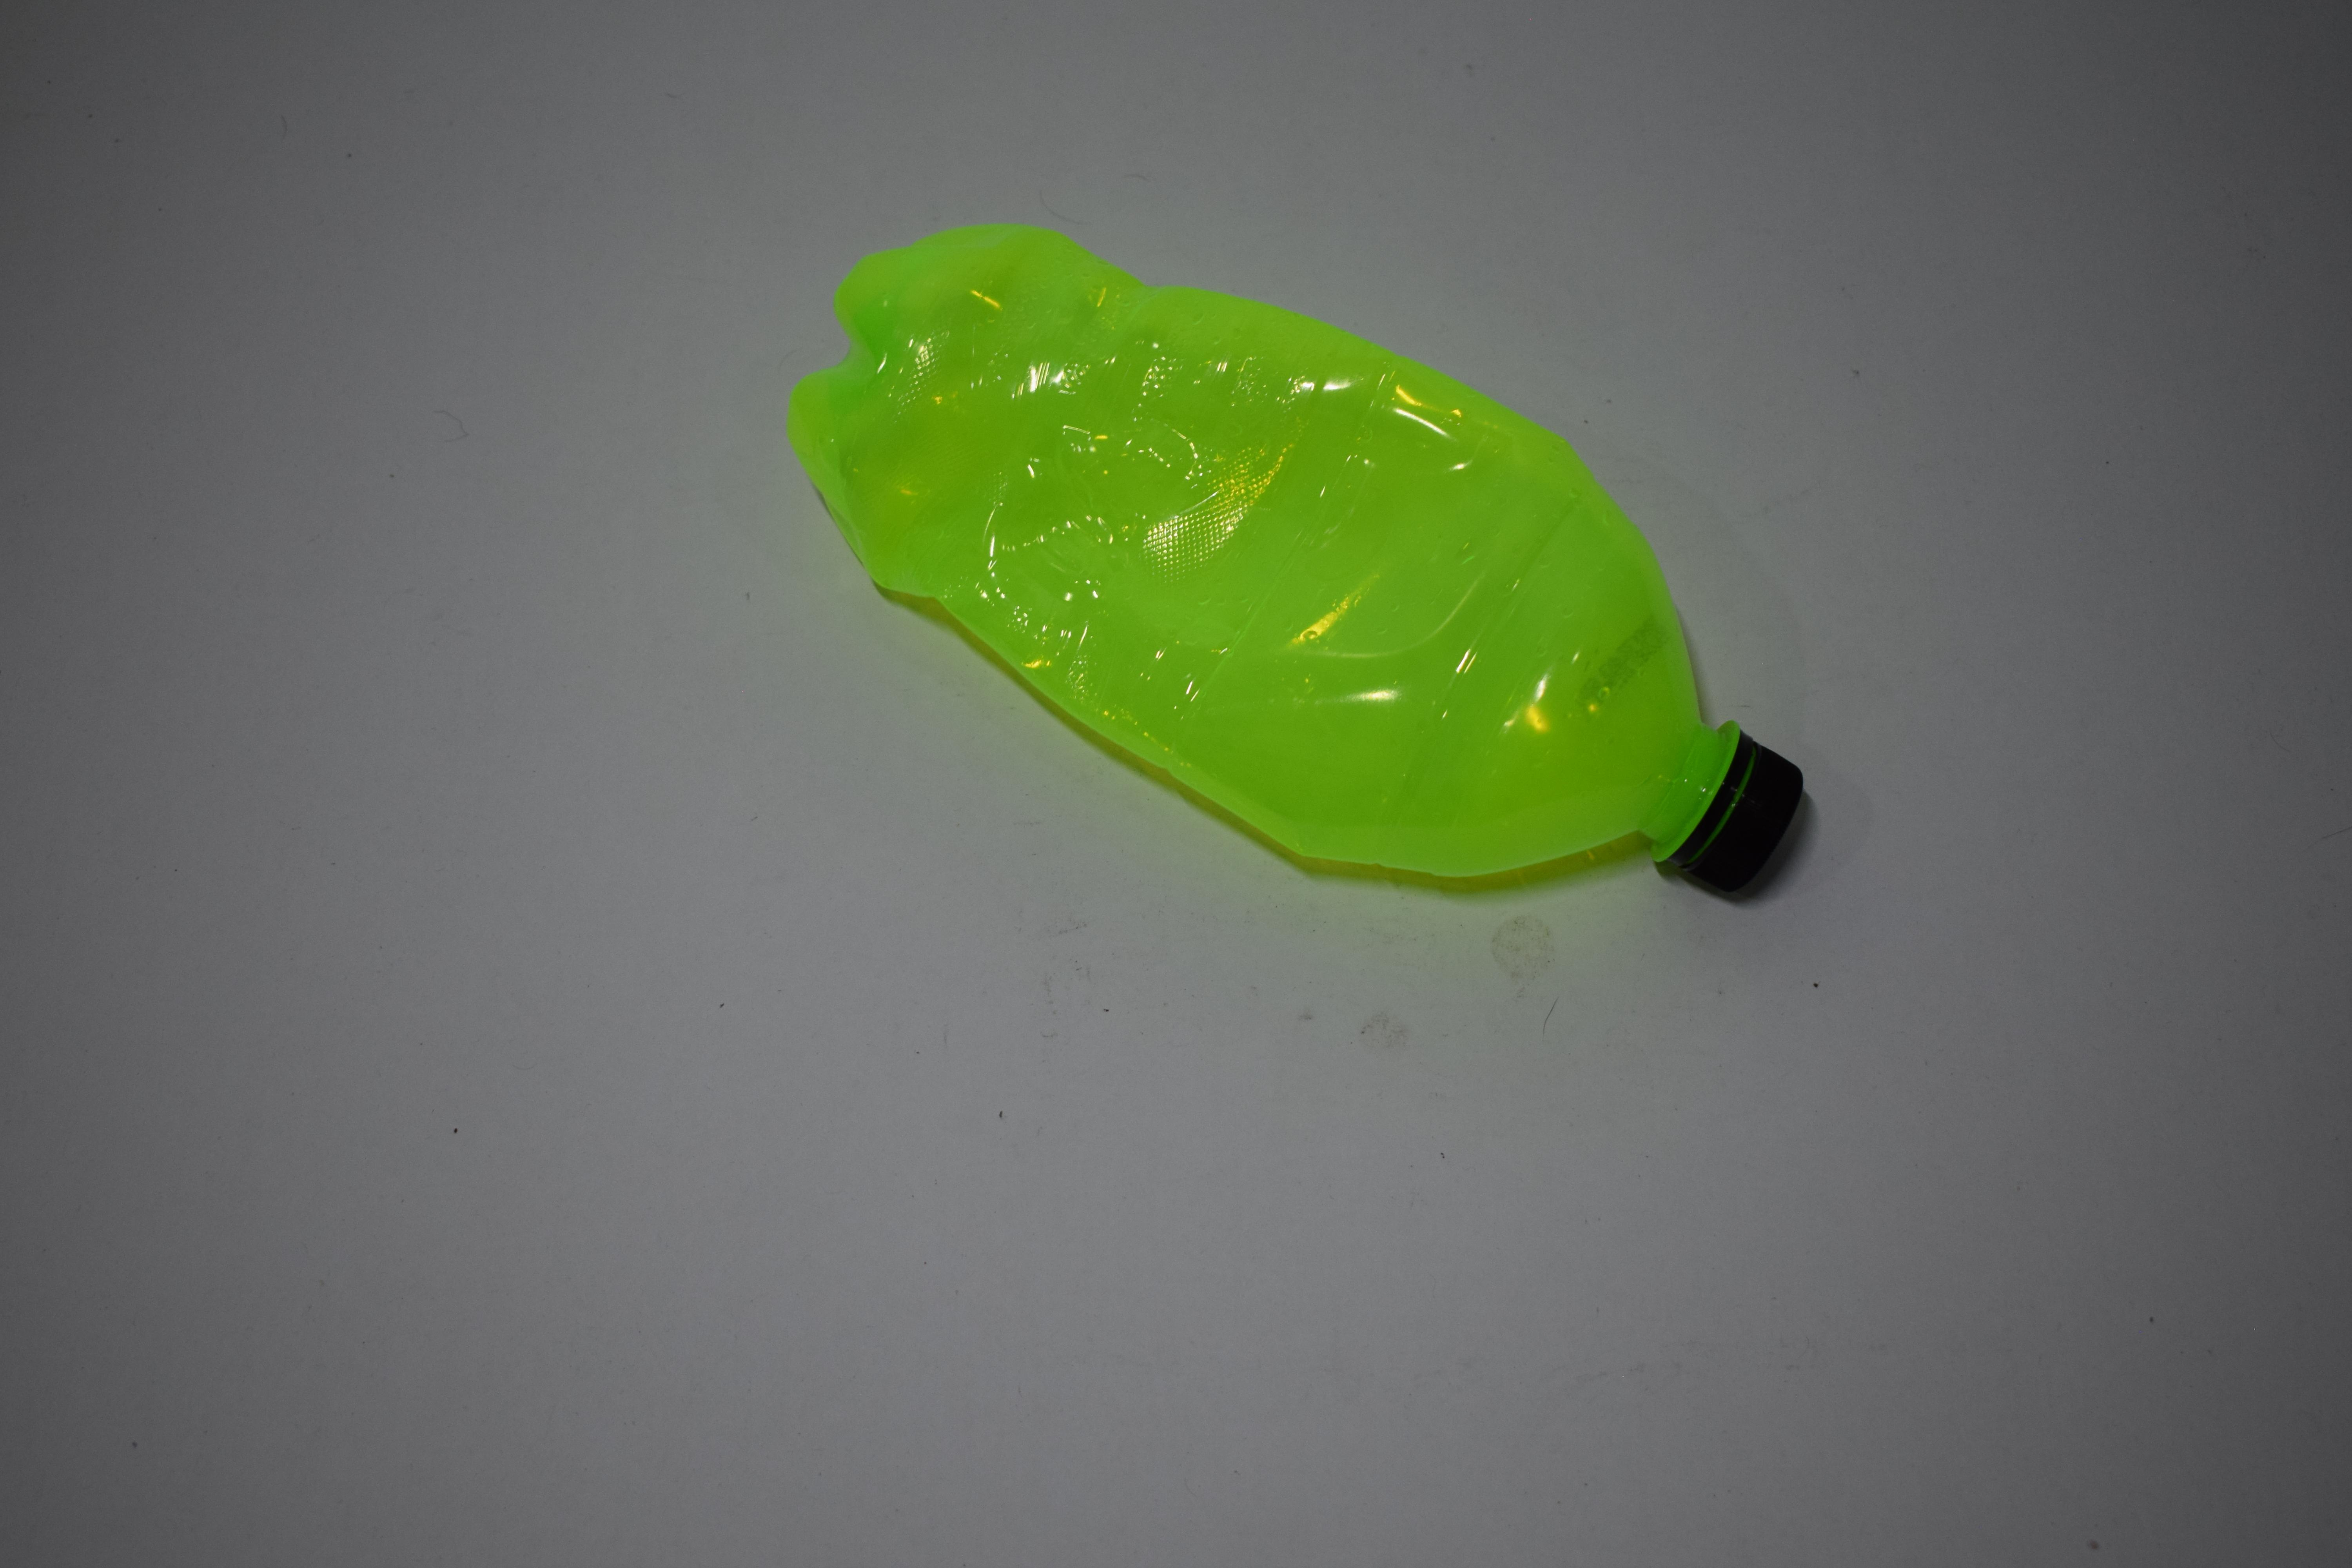bottle: (0, 136, 518, 826)
